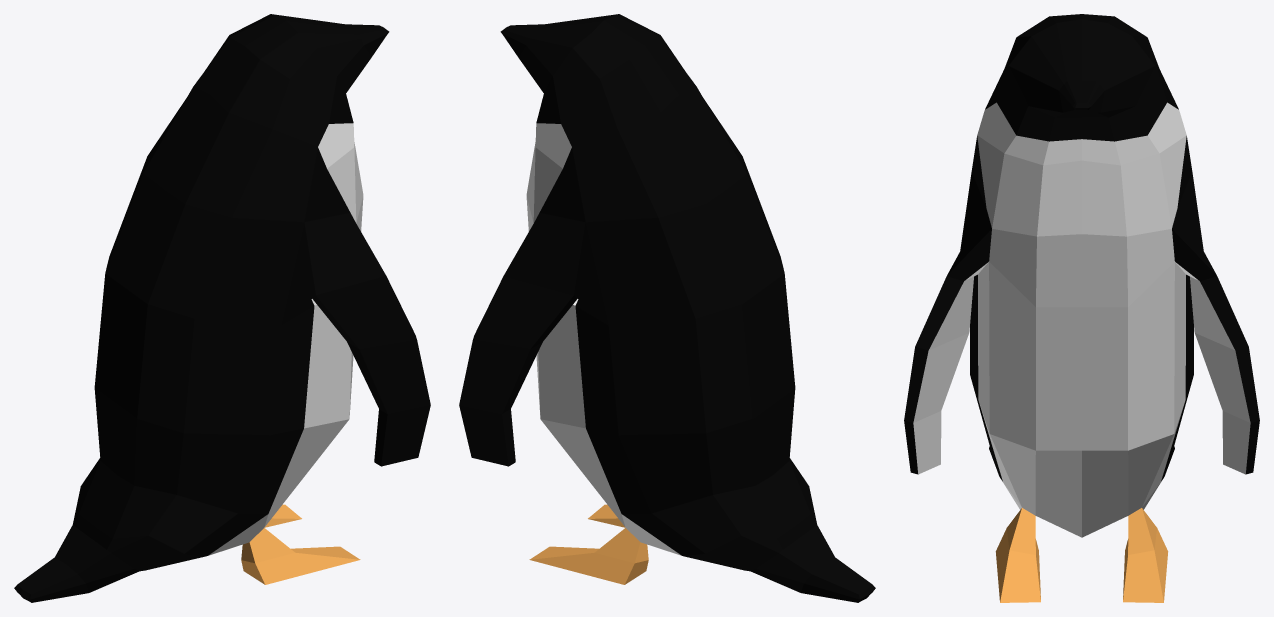
File: penguin.glb
3 renders of one model, left to right at view 1: azimuth 30°, elevation 25°; view 2: azimuth 150°, elevation 25°; view 3: azimuth 270°, elevation 25°, orthographic. The views are drawn at different scales.
Visible parts, largest first — view 1: Penguin; view 2: Penguin; view 3: Penguin.
Boxes of the visible parts, x1,y1,x2,y2 form: Penguin: (14, 14, 430, 602); Penguin: (459, 14, 875, 602); Penguin: (904, 14, 1259, 602).
Bounding box in the file's own units: 0.3923 × 0.5332 × 0.3046.
